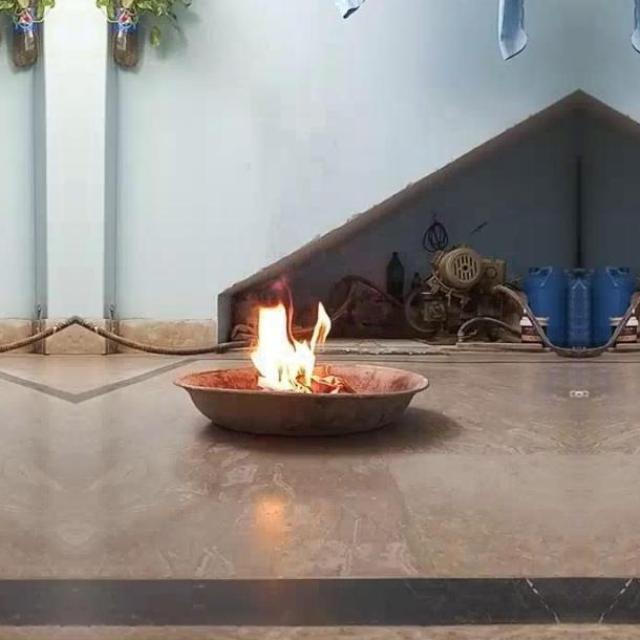smoke: (249, 296, 334, 390)
